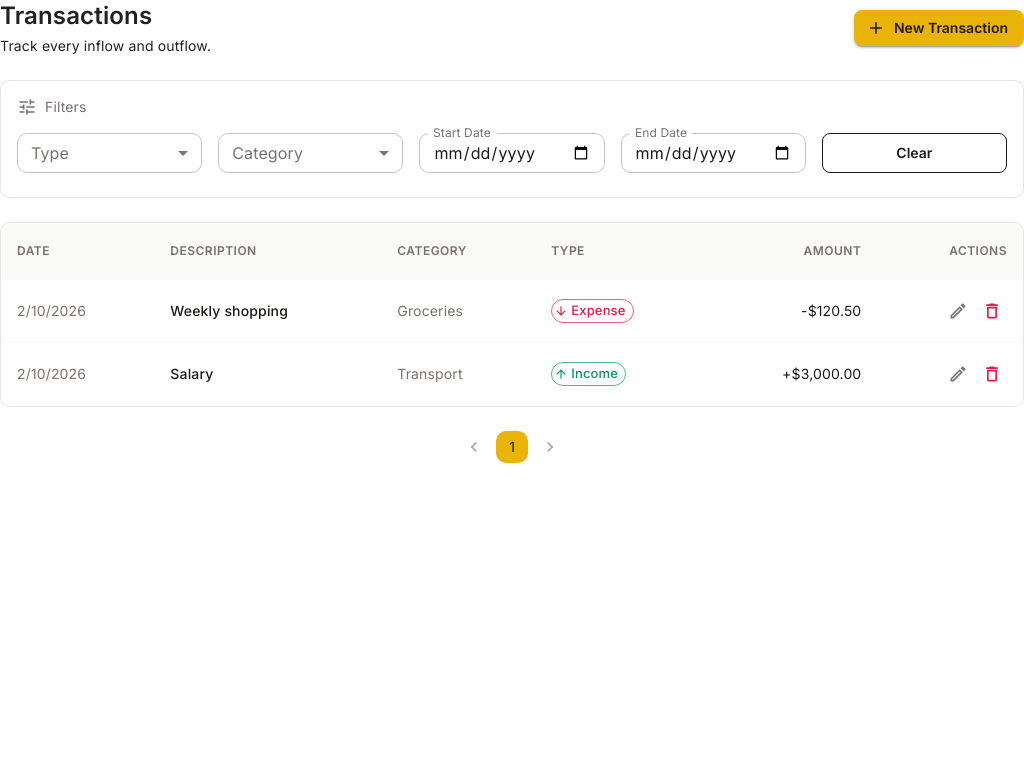
Test: Transactions page › opens the edit dialog prefilled with the chosen transaction
This screenshot has width=1024, height=768.
Step 1. Click the 3rd button → [958, 311], box [943, 296, 973, 326]
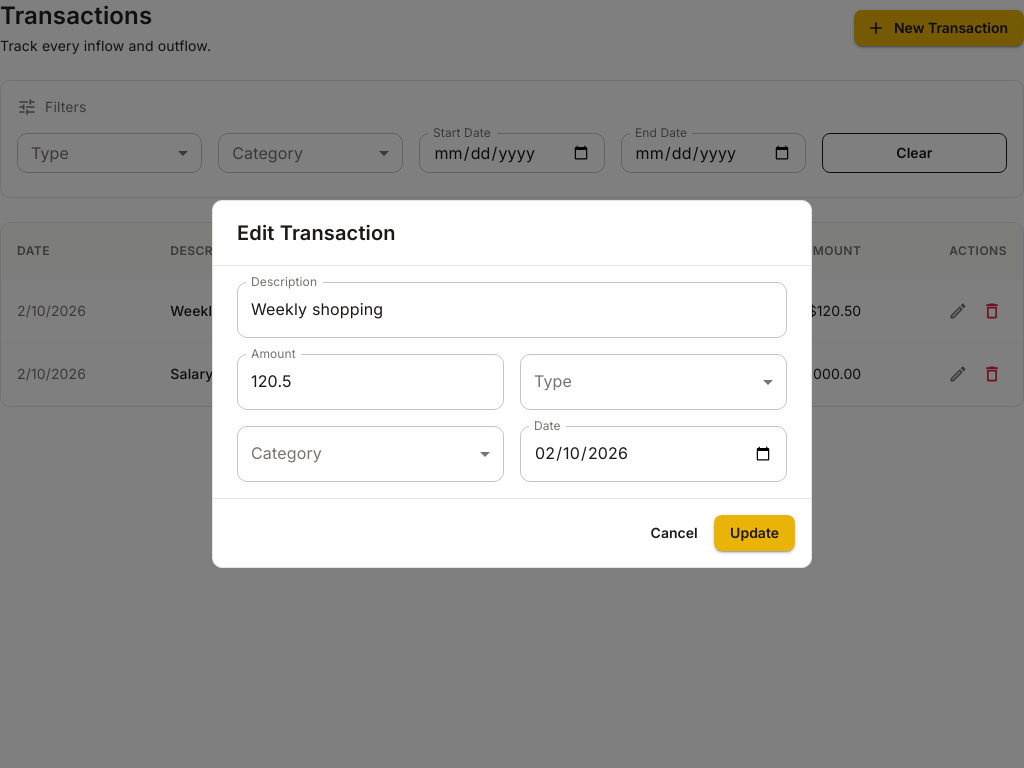
Expected: the dialog shows "Edit Transaction", [237, 221, 396, 245]
Expected: the field labelled "Description" holds "Weekly shopping", [237, 282, 787, 338]
